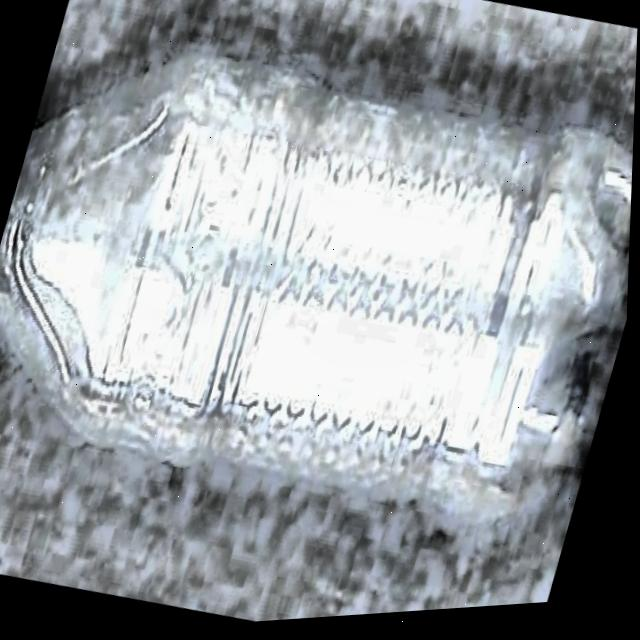plastic: (0, 0, 640, 594)
